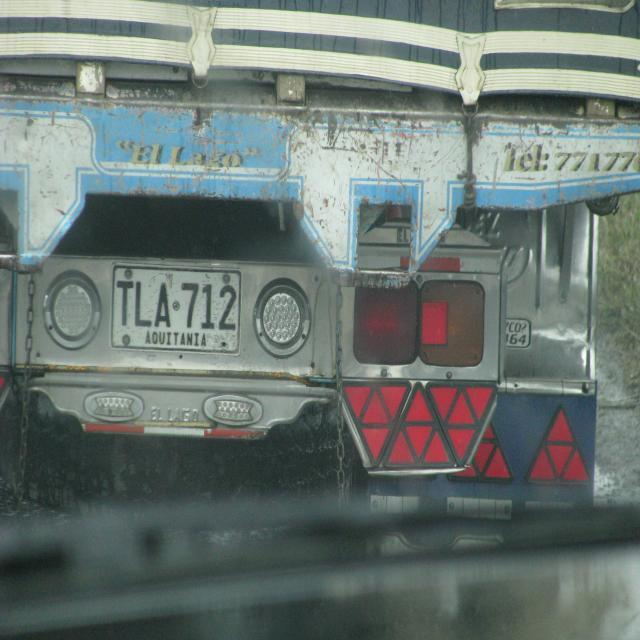placa: (107, 260, 245, 360)
